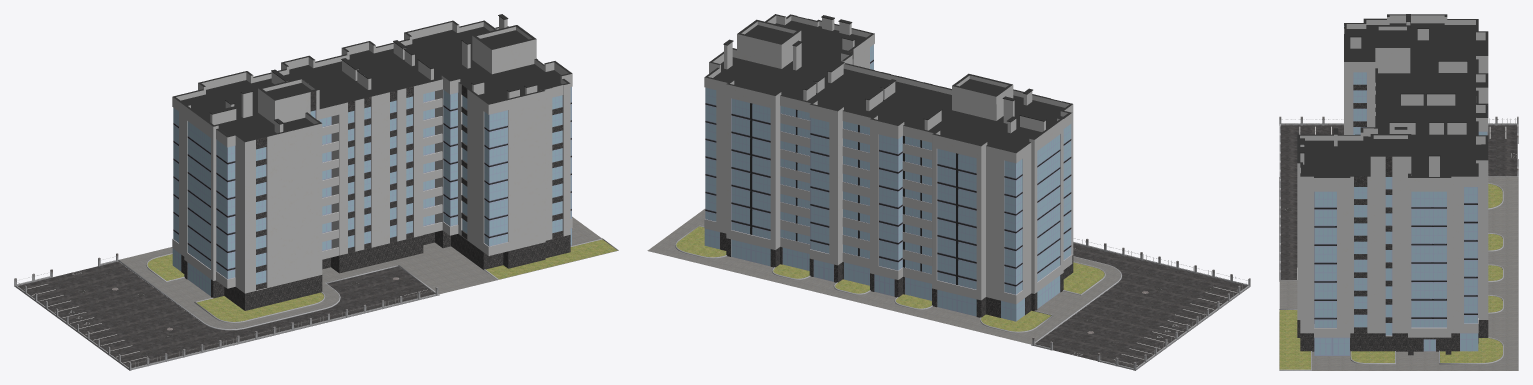
Rendered from JK_Elite_test.fbx.
The picture shows the model from 3 angles, left to right: view 1: azimuth 30°, elevation 25°; view 2: azimuth 150°, elevation 25°; view 3: azimuth 270°, elevation 25°; orthographic projection. The views are drawn at different scales.
Visible parts, largest first — view 1: building, ground; view 2: building, ground; view 3: building, ground.
Part boxes in pixels (x1,y1,x2,y2): building: (172,14,572,310); ground: (14,216,618,370); building: (704,14,1073,321); ground: (647,209,1250,370); building: (1297,14,1488,355); ground: (1279,116,1518,370).
Bounding box in the file's own units: 8549 × 3174 × 3503.
